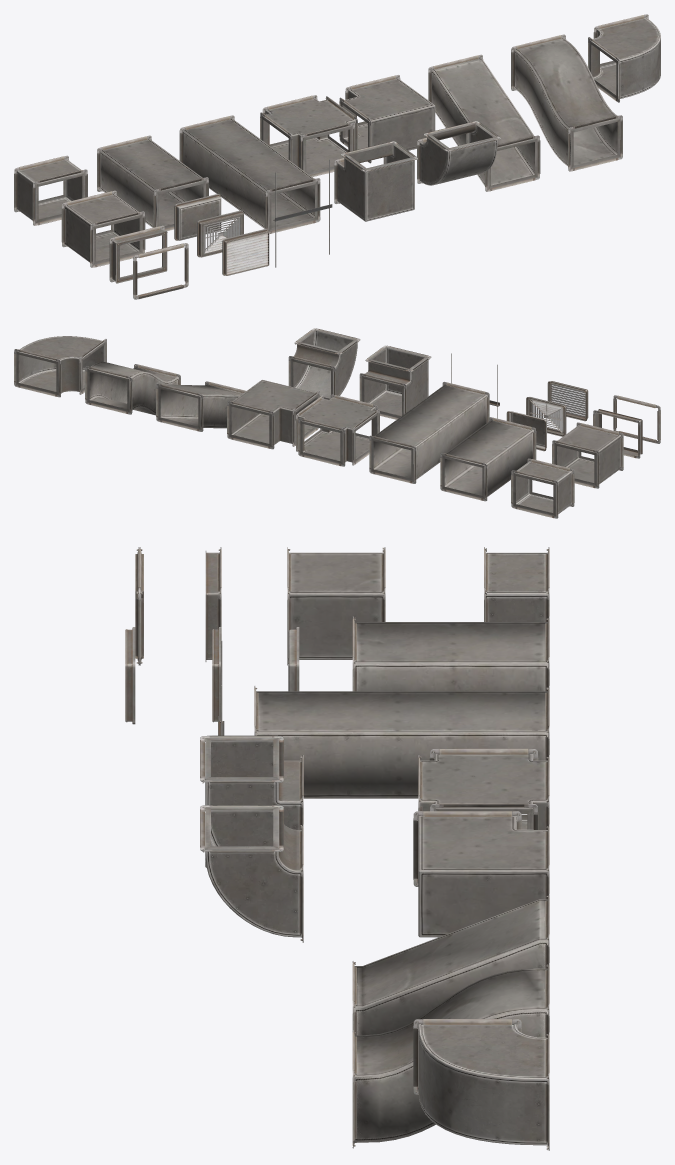
The model's file is modular_airduct_rectangular_01_1k.glb.
3 views of the same model, one above another, from view 1: azimuth 30°, elevation 25°; view 2: azimuth 150°, elevation 25°; view 3: azimuth 270°, elevation 25° (orthographic). The views are drawn at different scales.
Visible parts, largest first — view 1: modular_airduct_rectangular_01_tripple_01, modular_airduct_rectangular_01_transition_double_02, modular_airduct_rectangular_01_transition_double_01, modular_airduct_rectangular_01_double_01, modular_airduct_rectangular_01_splitter_01, modular_airduct_rectangular_01_corner_01, modular_airduct_rectangular_01_corner_02, modular_airduct_rectangular_01_bend_02, modular_airduct_rectangular_01_single_01, modular_airduct_rectangular_01_bend_01, modular_airduct_rectangular_01_half_01, modular_airduct_rectangular_01_vent_01 (+4 smaller); view 2: modular_airduct_rectangular_01_tripple_01, modular_airduct_rectangular_01_double_01, modular_airduct_rectangular_01_splitter_01, modular_airduct_rectangular_01_corner_02, modular_airduct_rectangular_01_bend_02, modular_airduct_rectangular_01_corner_01, modular_airduct_rectangular_01_bend_01, modular_airduct_rectangular_01_transition_double_02, modular_airduct_rectangular_01_single_01, modular_airduct_rectangular_01_transition_double_01, modular_airduct_rectangular_01_half_01, modular_airduct_rectangular_01_vent_01 (+4 smaller); view 3: modular_airduct_rectangular_01_tripple_01, modular_airduct_rectangular_01_bend_02, modular_airduct_rectangular_01_corner_02, modular_airduct_rectangular_01_double_01, modular_airduct_rectangular_01_transition_double_01, modular_airduct_rectangular_01_transition_double_02, modular_airduct_rectangular_01_bend_01, modular_airduct_rectangular_01_single_01, modular_airduct_rectangular_01_splitter_01, modular_airduct_rectangular_01_corner_01, modular_airduct_rectangular_01_half_01, modular_airduct_rectangular_01_connector_01 (+3 smaller).
Boxes of the visible parts, box(x1,y1,x2,y2) form: modular_airduct_rectangular_01_tripple_01: box(179, 115, 320, 233); modular_airduct_rectangular_01_transition_double_02: box(511, 34, 622, 171); modular_airduct_rectangular_01_transition_double_01: box(428, 54, 540, 191); modular_airduct_rectangular_01_double_01: box(97, 135, 208, 230); modular_airduct_rectangular_01_splitter_01: box(260, 95, 357, 176); modular_airduct_rectangular_01_corner_01: box(334, 141, 417, 221); modular_airduct_rectangular_01_corner_02: box(339, 75, 435, 163); modular_airduct_rectangular_01_bend_02: box(588, 14, 660, 102); modular_airduct_rectangular_01_single_01: box(61, 190, 145, 267); modular_airduct_rectangular_01_bend_01: box(417, 121, 500, 185); modular_airduct_rectangular_01_half_01: box(14, 155, 87, 225); modular_airduct_rectangular_01_vent_01: box(222, 229, 269, 275); modular_airduct_rectangular_01_tripple_01: box(369, 381, 489, 483); modular_airduct_rectangular_01_double_01: box(440, 417, 536, 501); modular_airduct_rectangular_01_splitter_01: box(296, 394, 379, 466); modular_airduct_rectangular_01_corner_02: box(227, 380, 319, 449); modular_airduct_rectangular_01_bend_02: box(14, 336, 106, 397); modular_airduct_rectangular_01_corner_01: box(359, 345, 431, 419); modular_airduct_rectangular_01_bend_01: box(288, 328, 360, 399); modular_airduct_rectangular_01_transition_double_02: box(85, 362, 180, 415); modular_airduct_rectangular_01_single_01: box(552, 422, 623, 488); modular_airduct_rectangular_01_transition_double_01: box(156, 381, 245, 431); modular_airduct_rectangular_01_half_01: box(511, 458, 574, 518); modular_airduct_rectangular_01_vent_01: box(547, 381, 588, 421); modular_airduct_rectangular_01_tripple_01: box(254, 686, 549, 798); modular_airduct_rectangular_01_bend_02: box(413, 1019, 549, 1150); modular_airduct_rectangular_01_corner_02: box(413, 811, 549, 937); modular_airduct_rectangular_01_double_01: box(352, 616, 549, 691); modular_airduct_rectangular_01_transition_double_01: box(352, 894, 549, 1035); modular_airduct_rectangular_01_transition_double_02: box(352, 963, 549, 1148); modular_airduct_rectangular_01_bend_01: box(200, 805, 303, 942); modular_airduct_rectangular_01_single_01: box(287, 547, 385, 665); modular_airduct_rectangular_01_splitter_01: box(418, 748, 549, 829); modular_airduct_rectangular_01_corner_01: box(200, 735, 303, 867); modular_airduct_rectangular_01_half_01: box(484, 547, 549, 621); modular_airduct_rectangular_01_connector_01: box(205, 547, 221, 661).
Size of the model in its own units: 7.66 by 1.26 by 2.59.
2 materials, 2 textured.
